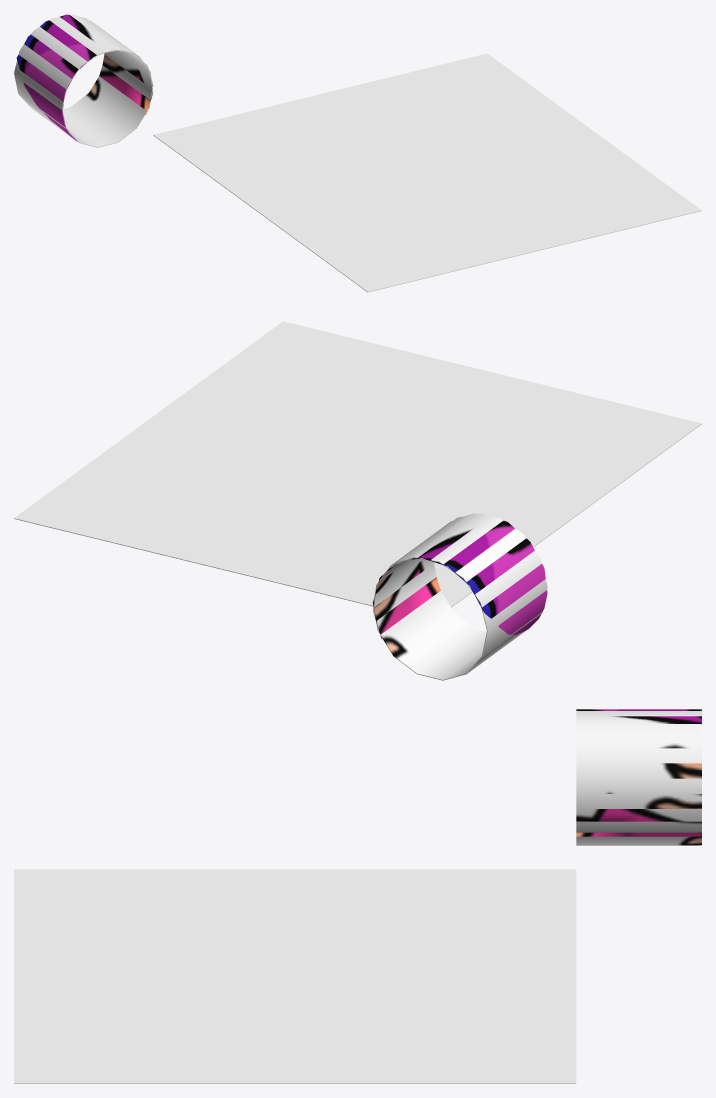
3 renders of one model, top to bottom at view 1: azimuth 30°, elevation 25°; view 2: azimuth 150°, elevation 25°; view 3: azimuth 270°, elevation 25°, orthographic. The views are drawn at different scales.
Visible parts, largest first — view 1: Blend, Blend1; view 2: Blend, Blend1; view 3: Blend, Blend1.
Part boxes in pixels (<box>): Blend: <box>153,53,701,292</box>; Blend1: <box>14,14,153,147</box>; Blend: <box>14,321,701,607</box>; Blend1: <box>372,513,547,680</box>; Blend: <box>14,869,576,1083</box>; Blend1: <box>576,709,701,845</box>.
Size of what is drawn, in the model's own units: 783 by 168 by 837.
